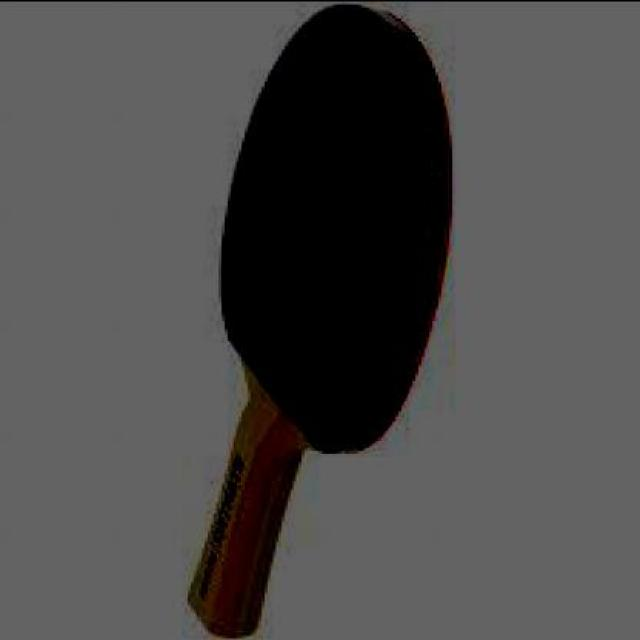table_tennis_racket: (211, 2, 463, 463)
